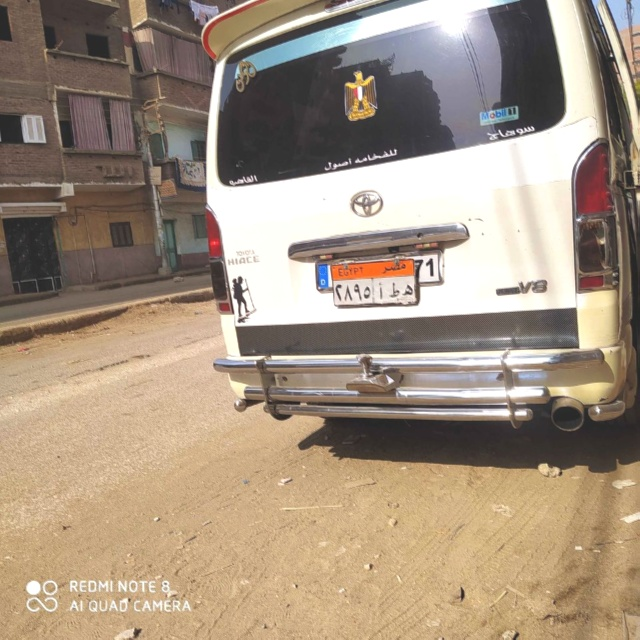License Plate: (331, 259, 419, 309)
